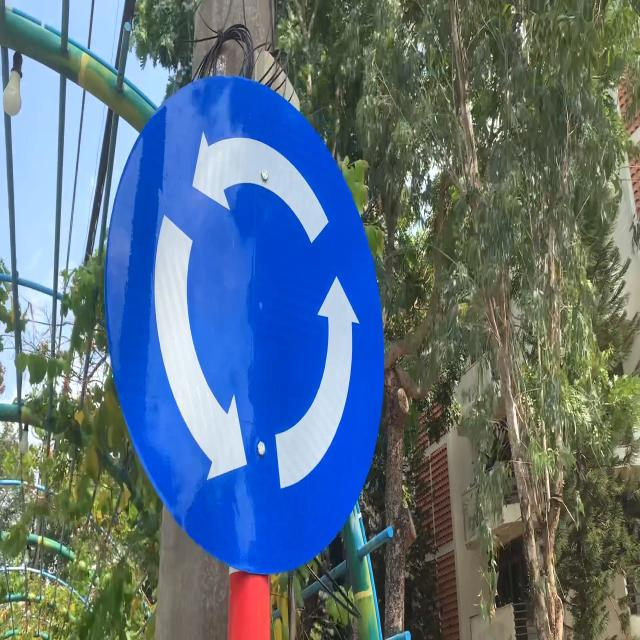R.303: (104, 60, 396, 580)
